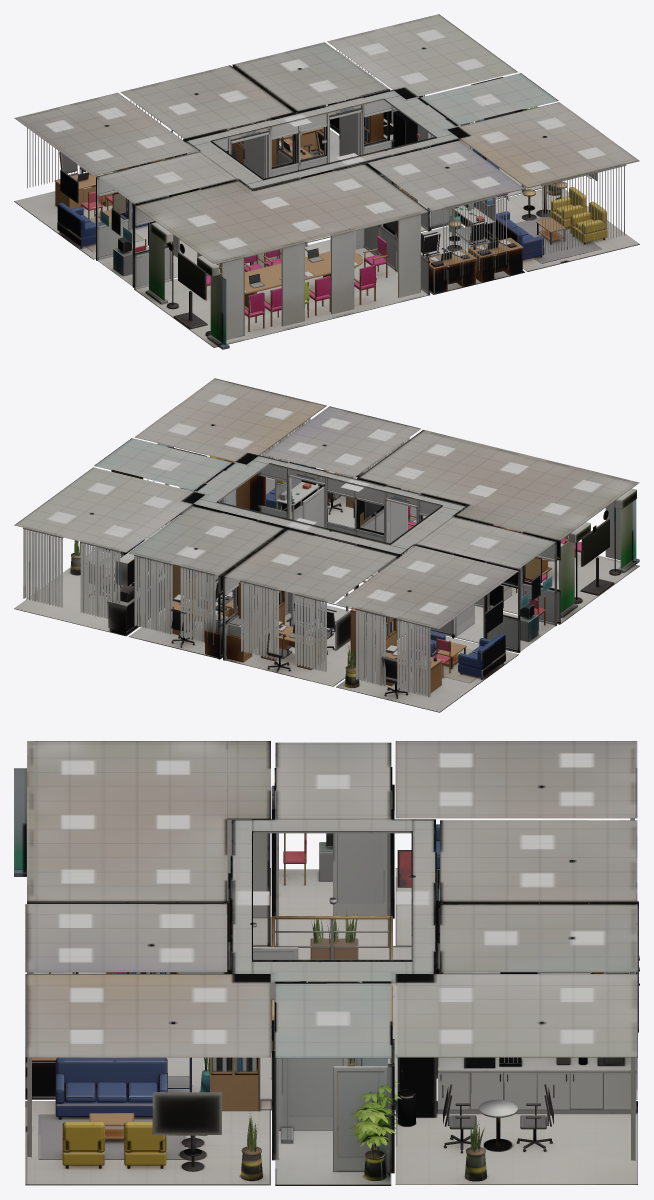
Rendered from world_in1w.glb.
3 views of the same model, one above another, from view 1: azimuth 30°, elevation 25°; view 2: azimuth 150°, elevation 25°; view 3: azimuth 270°, elevation 25° (orthographic). The views are drawn at different scales.
Visible parts, largest first — view 1: W_in1w; view 2: W_in1w; view 3: W_in1w.
Part boxes in pixels (<box>): W_in1w: <box>14,14,639,349</box>; W_in1w: <box>14,378,639,712</box>; W_in1w: <box>14,741,639,1185</box>.
Size of the model in its own units: 13.89 by 2.55 by 11.17.
1 material, 1 textured.
